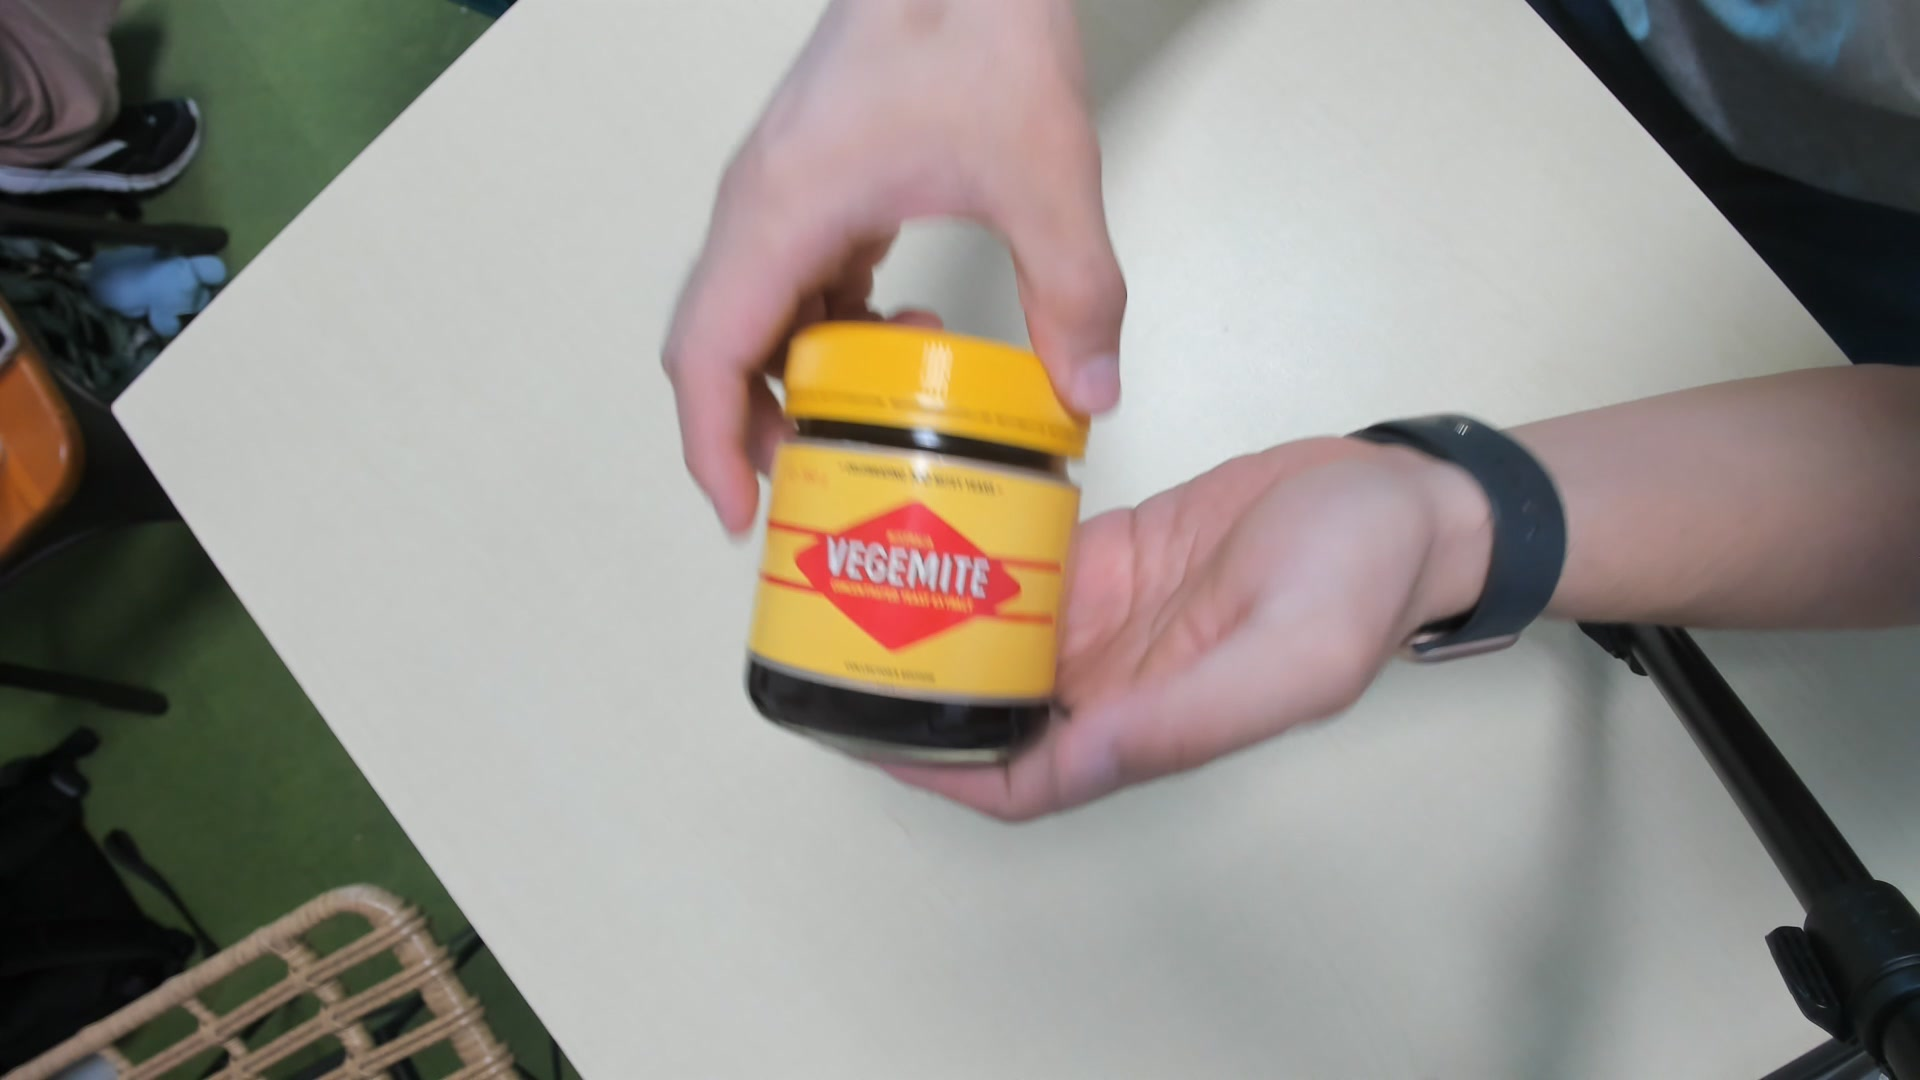OtherSauceDressing_300-399g_Halal_NonHealthy: (729, 320, 1085, 764)
